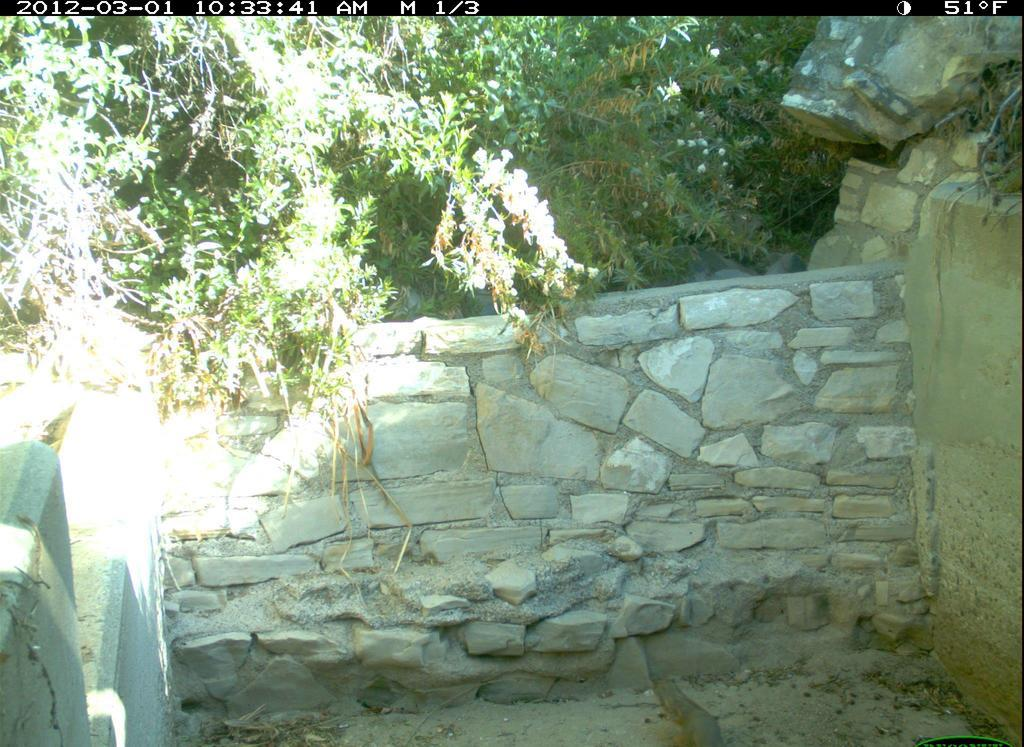squirrel: (624, 660, 743, 744)
